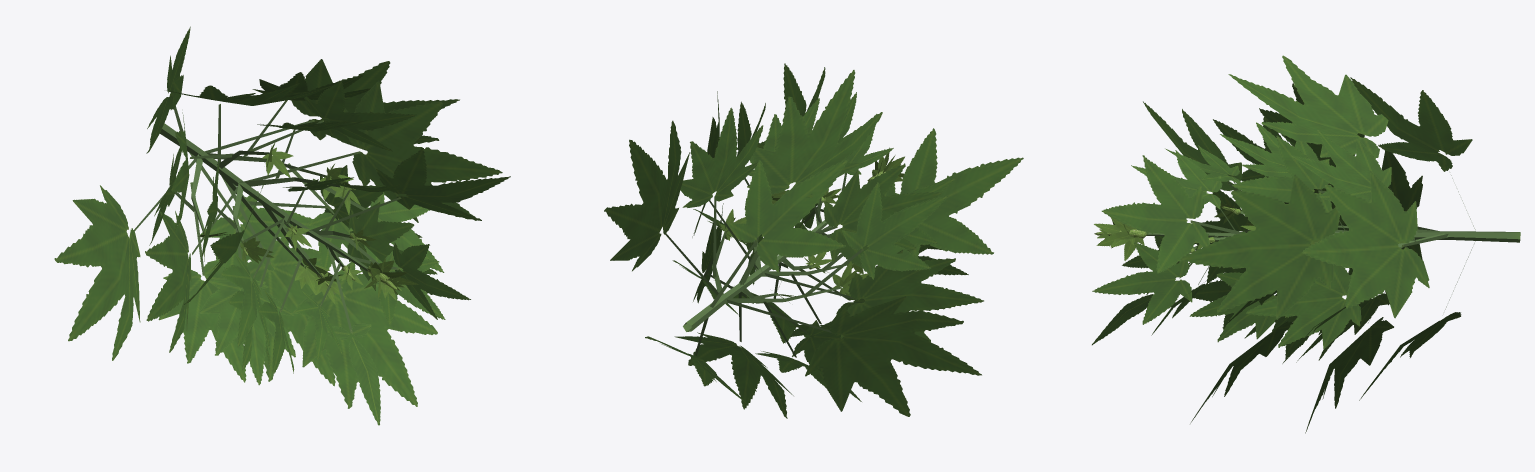
The model's file is p_tree_preflower_c0_cards.obj.
The picture shows the model from 3 angles, left to right: view 1: azimuth 30°, elevation 25°; view 2: azimuth 150°, elevation 25°; view 3: azimuth 270°, elevation 25°; orthographic projection. The views are drawn at different scales.
Bounding box in the file's own units: 1.56 × 1.3 × 1.33.
Materials: 1 (1 with a texture image).
